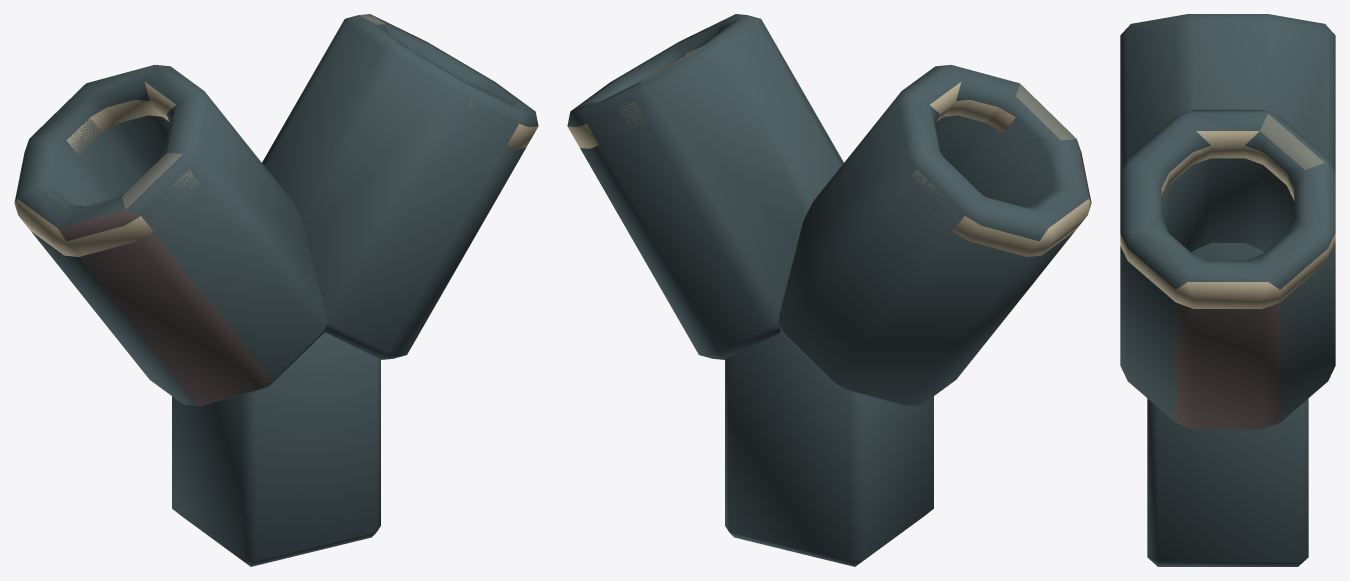
File: prop_clamp.glb
The picture shows the model from 3 angles, left to right: view 1: azimuth 30°, elevation 25°; view 2: azimuth 150°, elevation 25°; view 3: azimuth 270°, elevation 25°; orthographic projection.
Visible parts, largest first — view 1: Surface; view 2: Surface; view 3: Surface.
Part boxes in pixels (x1,y1,x2,y2): Surface: (14, 14, 538, 566); Surface: (567, 14, 1091, 566); Surface: (1120, 14, 1335, 566).
Bounding box in the file's own units: 1.56 × 1.46 × 0.6005.
